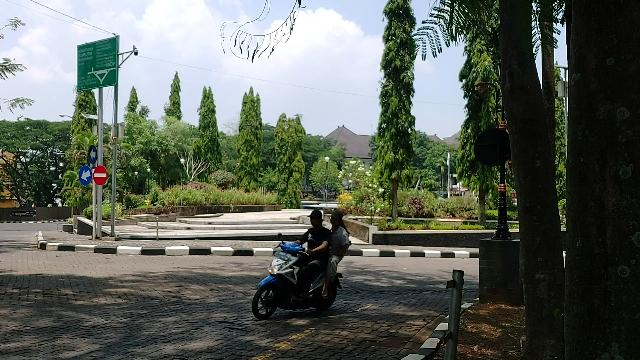motor: (253, 244, 345, 320)
non-helm: (309, 211, 324, 228), (329, 212, 344, 227)
